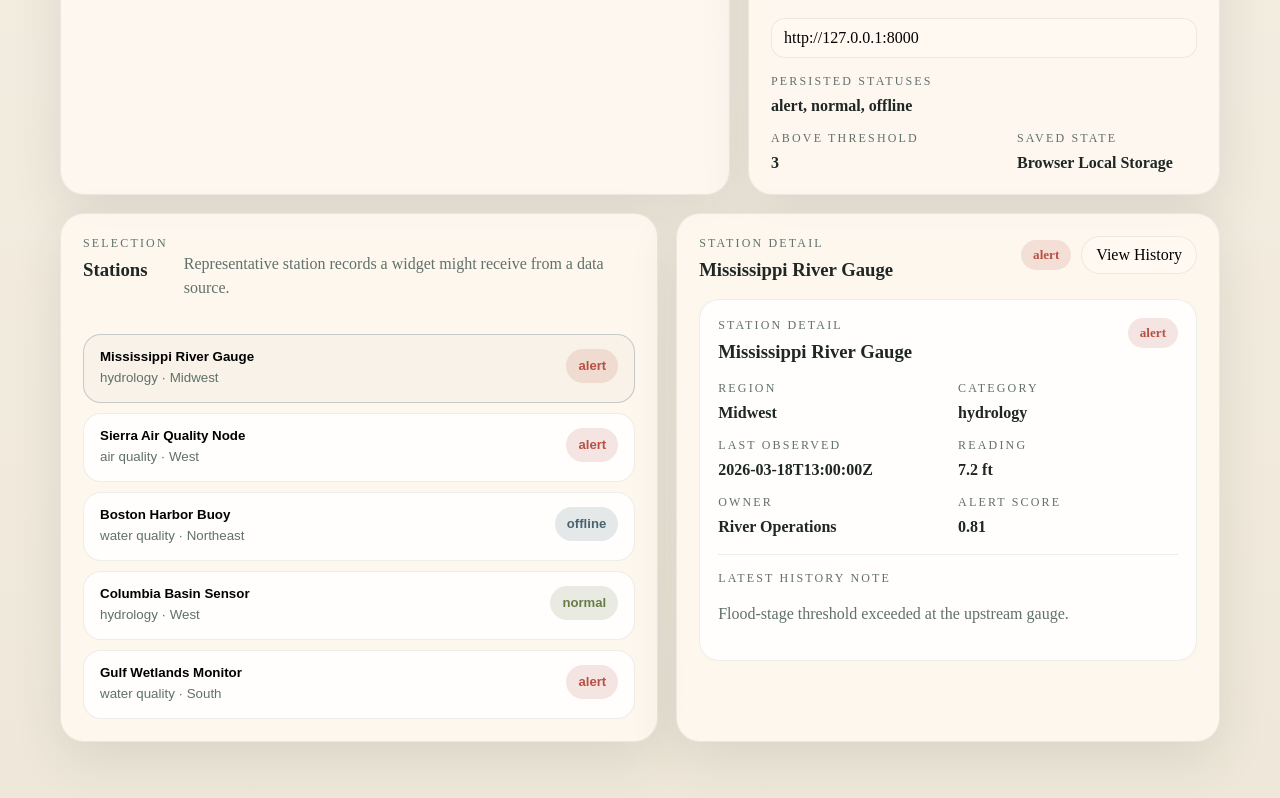
it: widget config persistence › opens a station history modal
This screenshot has width=1280, height=798.
(page scrolled)
Click the button with aria-label "Select Sierra Air Quality Node in list": [173, 435] box [83,413,635,482]
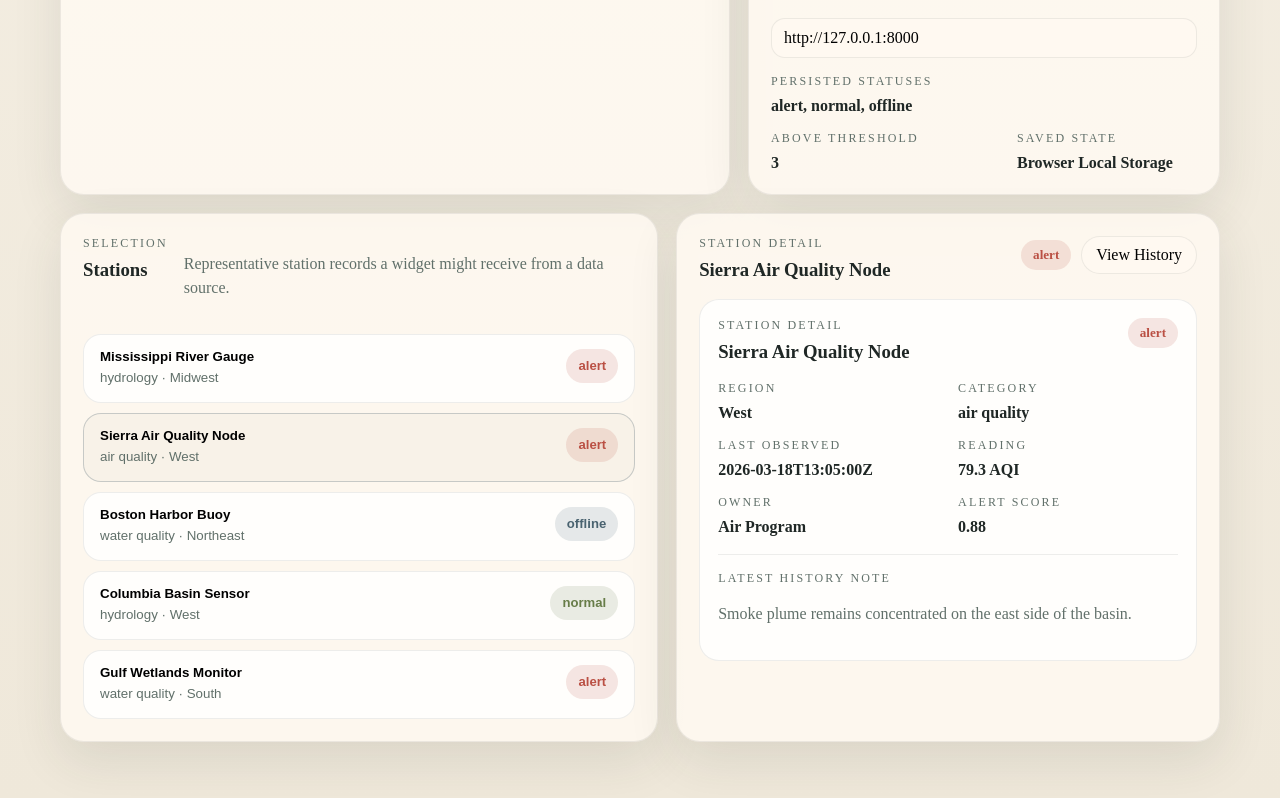
Click the button with aria-label "View history for Sierra Air Quality Node": [1139, 255] box [1081,236,1197,274]
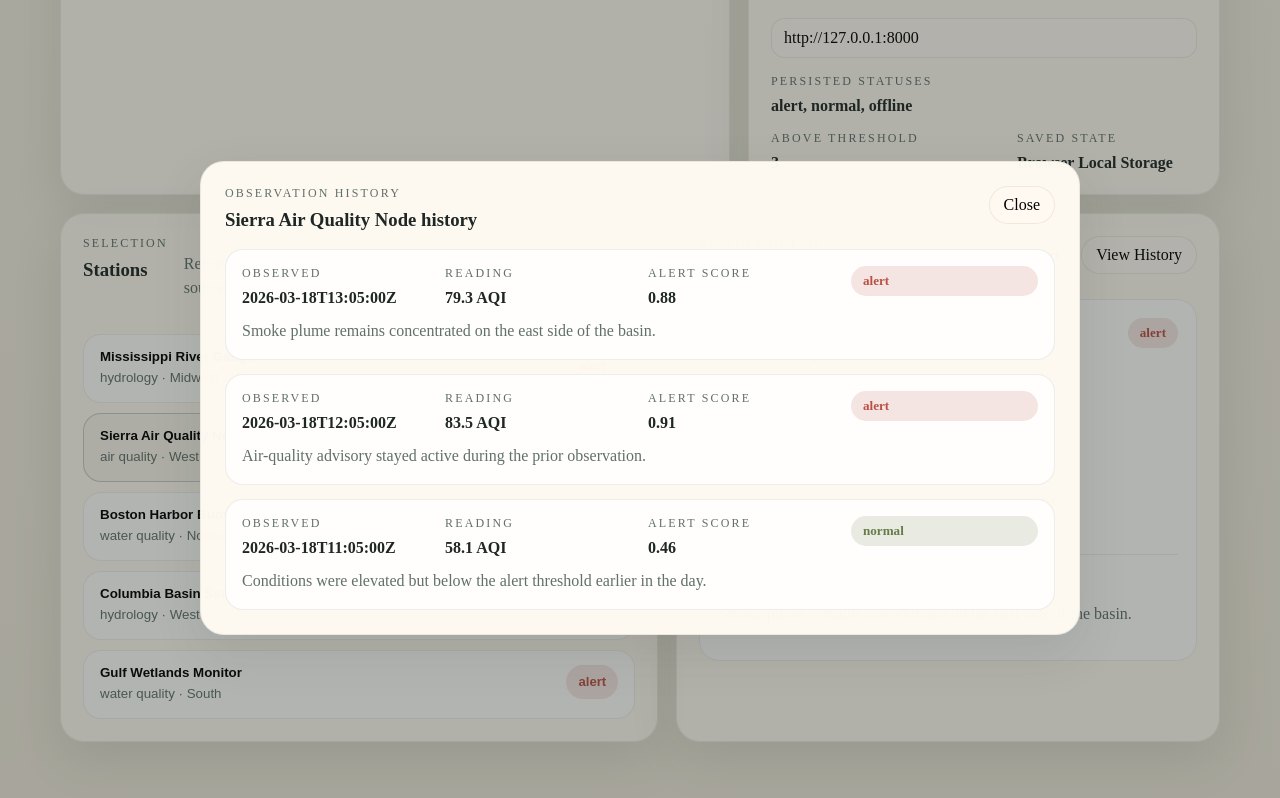
Now the dialog "Sierra Air Quality Node history" is shown, box [200,161,1080,635]
Now the text "Smoke plume remains concentrated on the east side of the basin." is shown, box [242,322,656,339]
Click the button "Close": [1022, 205] box [988,186,1055,224]
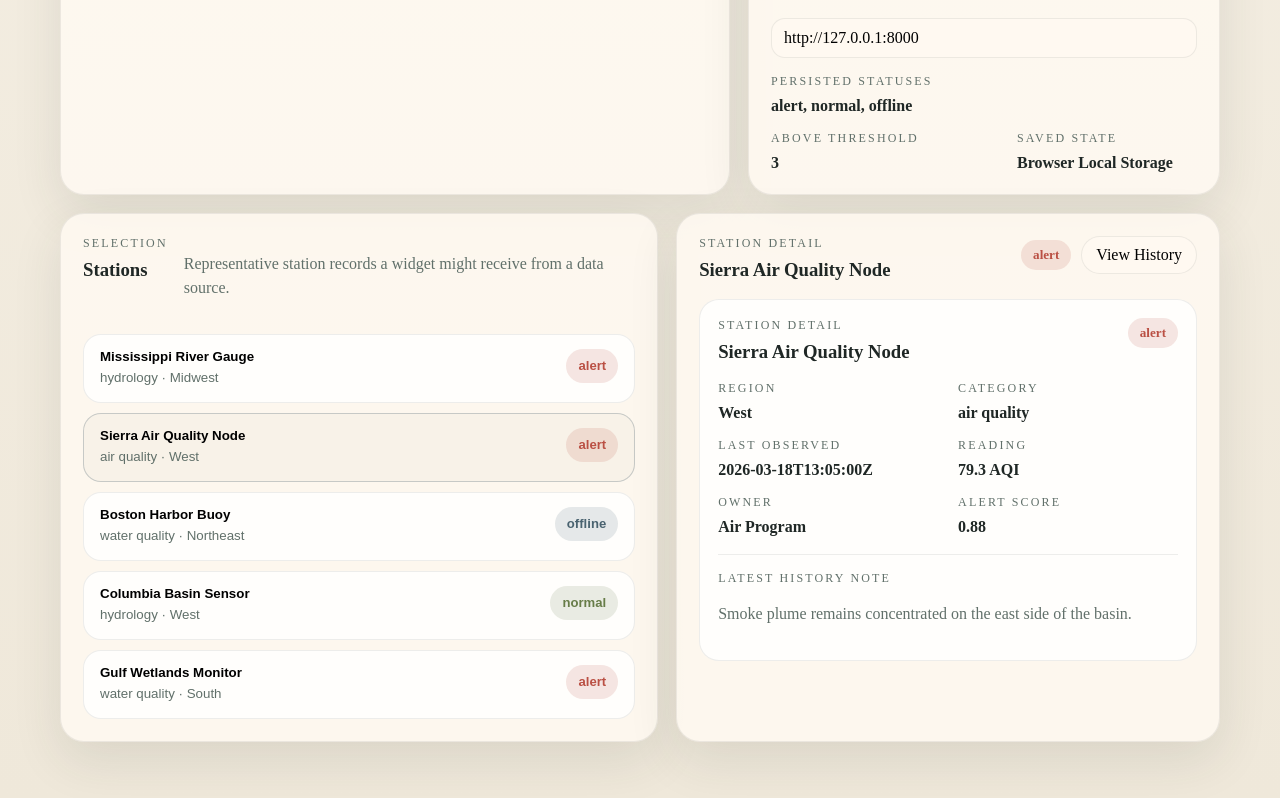
Now the heading "Sierra Air Quality Node history" is gone
